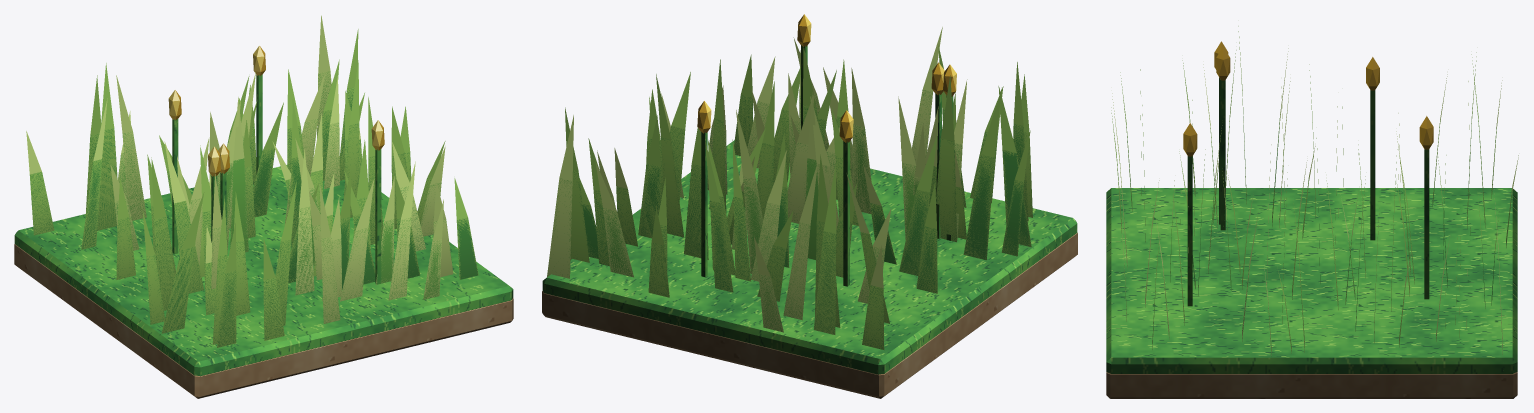
Rendered from tallgrass.glb.
The picture shows the model from 3 angles, left to right: view 1: azimuth 30°, elevation 25°; view 2: azimuth 150°, elevation 25°; view 3: azimuth 270°, elevation 25°; orthographic projection. The views are drawn at different scales.
Visible parts, largest first — view 1: tallgrass; view 2: tallgrass; view 3: tallgrass.
Part boxes in pixels (left/top/right/bottom): tallgrass: left=14, top=15, right=513, bottom=398; tallgrass: left=542, top=14, right=1077, bottom=398; tallgrass: left=1106, top=26, right=1518, bottom=398.
Size of the model in its own units: 1.03 by 0.6 by 1.01.
6 materials, 6 textured.
